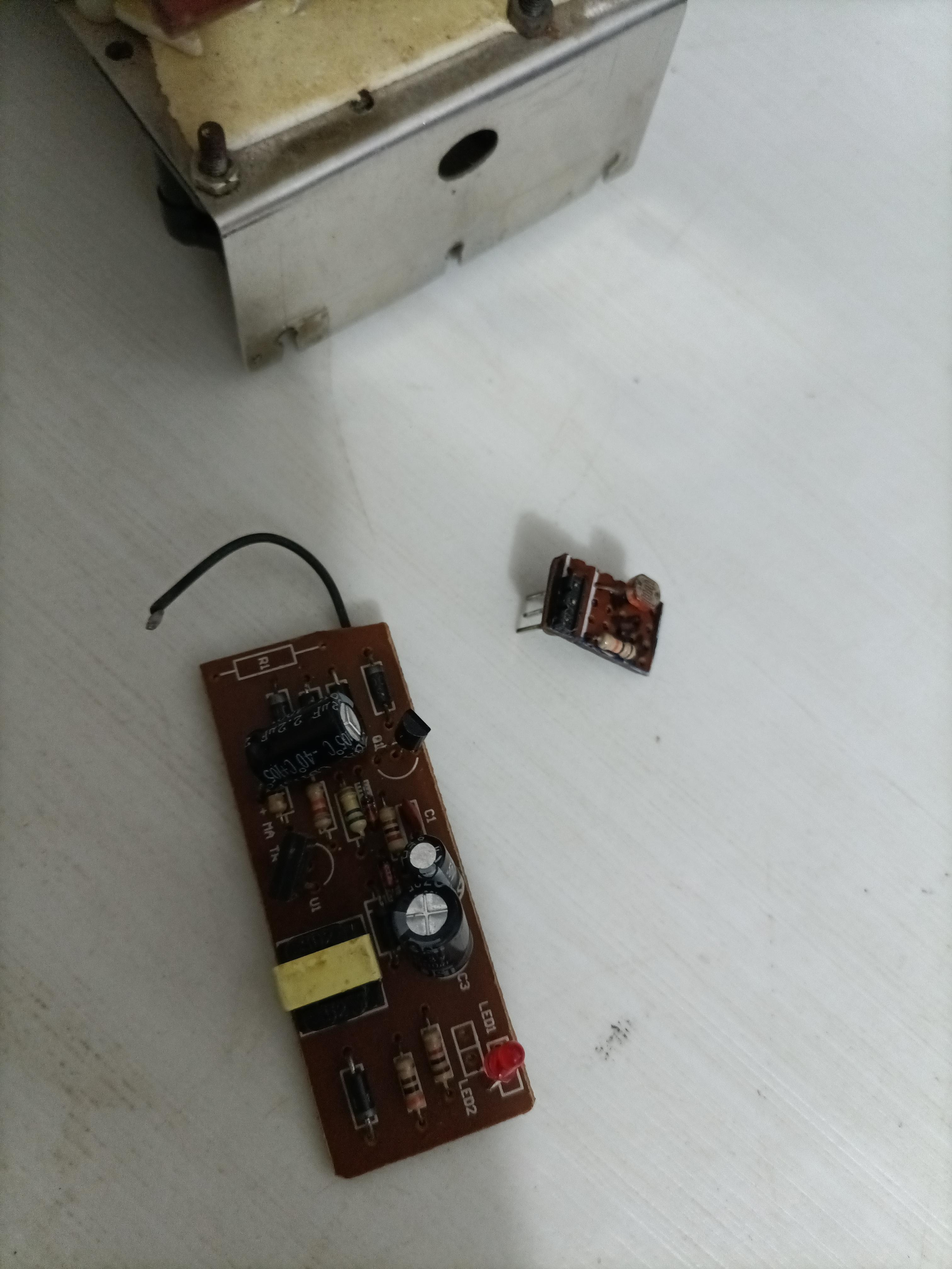Resistencia: (389, 1055, 423, 1126), (370, 804, 404, 875), (330, 784, 364, 855), (415, 1026, 449, 1097), (295, 785, 328, 855), (254, 776, 288, 830), (596, 627, 643, 663)
